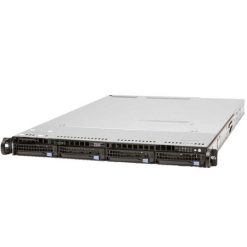ibm-server: (1, 94, 246, 172)
